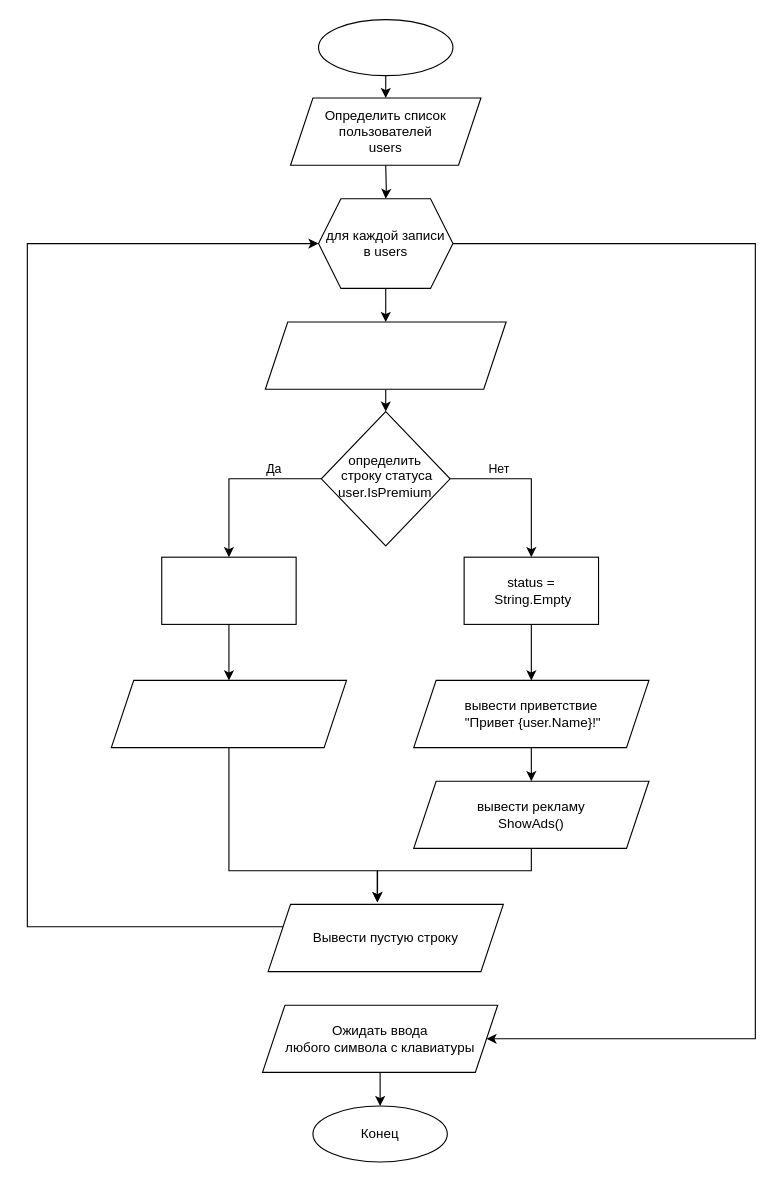
This 784x1182 diagram has some shape labels left out. The box of each missing label's shape, as (x1, y1, x2, y2) in pixels:
status = " Ваш статус премиум!": (161, 556, 296, 624)
вывести приветствие "Привет {user.Name}! Ваш статус премиум!": (110, 679, 347, 748)
Начало: (317, 18, 453, 76)
считать текущую запись в user: (264, 321, 506, 389)
